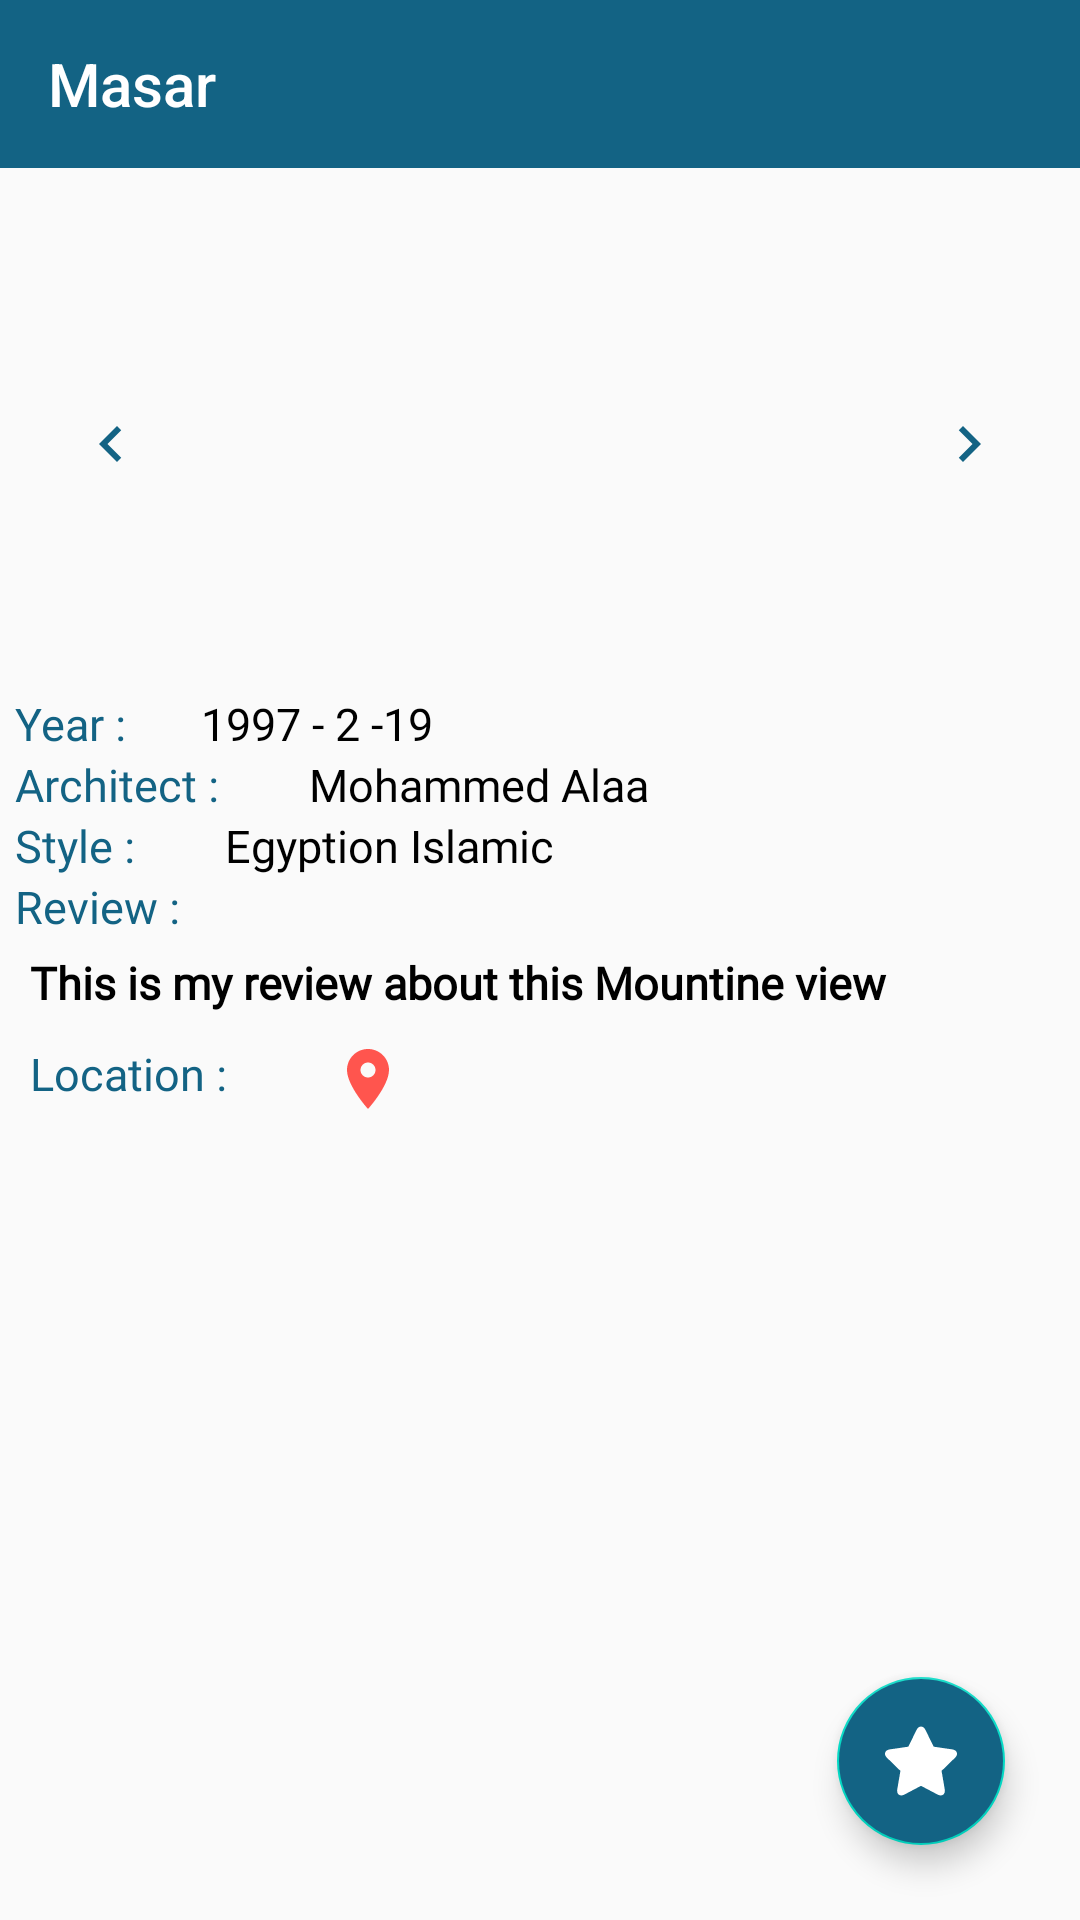

Icon bounding boxes for this 1080×1920 phone screenshot, format (x1, y1, x2, y2):
navigate before: (99, 426, 121, 462)
navigate next: (959, 426, 981, 462)
unstar it: (837, 1677, 1005, 1845)
